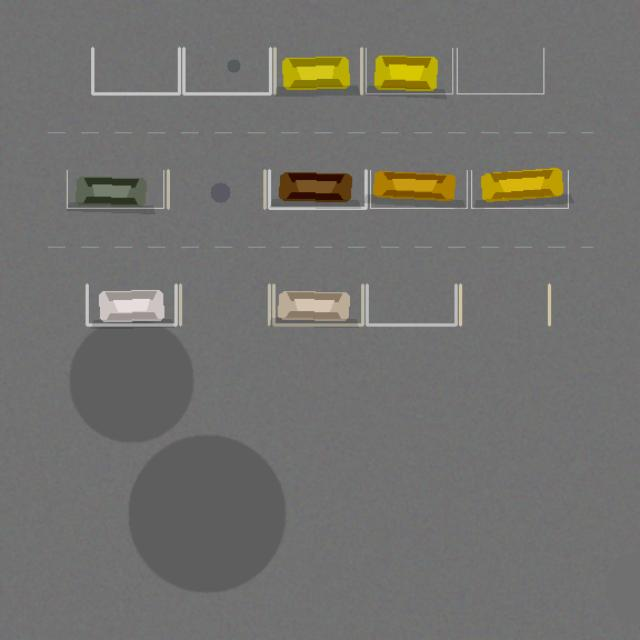space-empty: (92, 48, 179, 93), (183, 48, 270, 93), (457, 48, 543, 93), (168, 170, 264, 208), (180, 284, 269, 324), (367, 284, 456, 324), (460, 284, 549, 324)
space-occupied: (274, 48, 361, 93), (366, 48, 452, 93), (269, 170, 366, 208), (370, 170, 467, 208), (471, 170, 568, 208), (67, 170, 163, 208), (87, 284, 176, 324), (273, 284, 362, 324)
